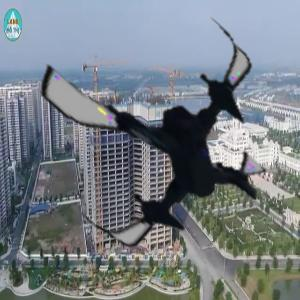drone: (32, 3, 286, 257)
